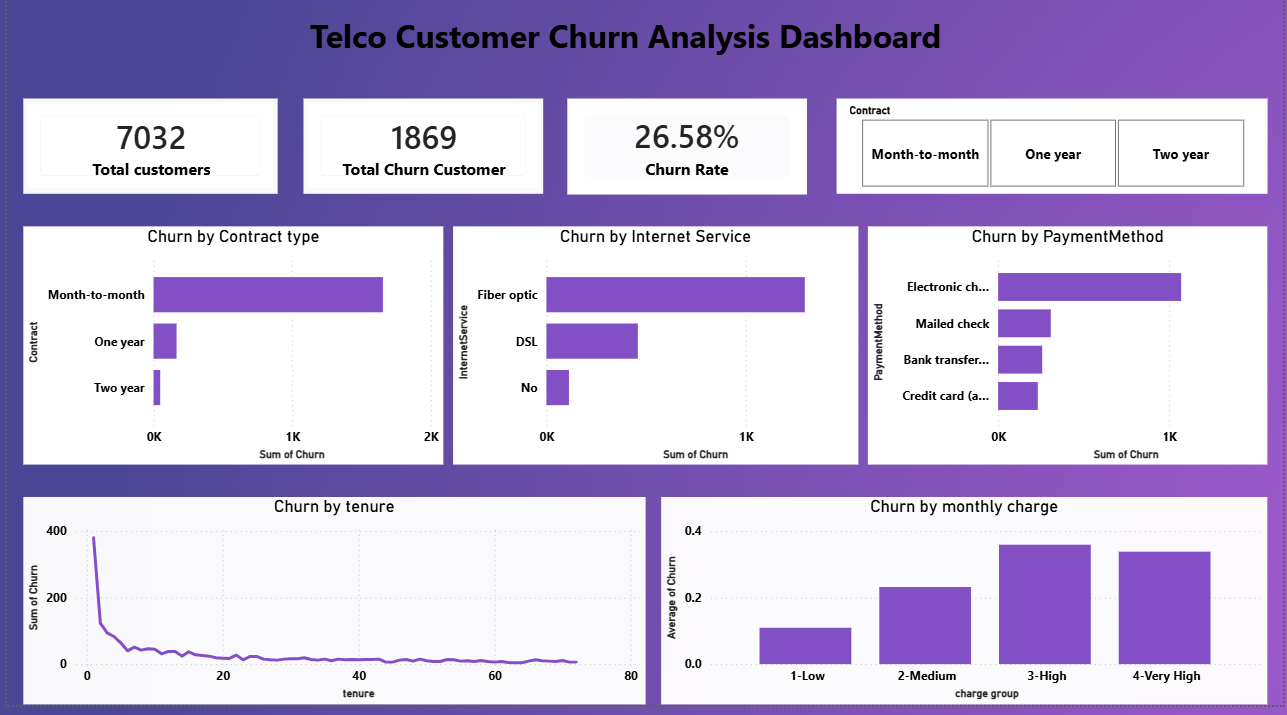

What the dashboard file says about the page in this screenshot:
{"tool":"powerbi","page":{"name":"Page 1","canvas":[1280,720],"ordinal":0},"visuals":[{"type":"cardVisual","fields":{"Data":["CountNonNull(telco_churn_cleaned.customerID)"]},"box":[16.4,111.9,255.1,95.5],"z":0},{"type":"cardVisual","fields":{"Data":["Sum(telco_churn_cleaned.Churn)"]},"box":[297.4,111.9,240.1,95.5],"z":1000},{"type":"cardVisual","fields":{"Data":["telco_churn_cleaned.Churn Rate"]},"box":[562.1,111.3,240.7,96],"z":2000},{"type":"clusteredBarChart","title":"Churn by Contract type","fields":{"Category":["telco_churn_cleaned.Contract"],"Y":["Sum(telco_churn_cleaned.Churn)"]},"box":[16.7,240.7,421.6,239.3],"z":3000},{"type":"clusteredBarChart","title":"Churn by Internet Service","fields":{"Y":["Sum(telco_churn_cleaned.Churn)"],"Category":["telco_churn_cleaned.InternetService"]},"box":[448,240.7,406.3,239.3],"z":4000},{"type":"clusteredBarChart","title":"Churn by PaymentMethod","fields":{"Y":["Sum(telco_churn_cleaned.Churn)"],"Category":["telco_churn_cleaned.PaymentMethod"]},"box":[864,240.7,400.7,239.3],"z":5000},{"type":"lineChart","title":"Churn by tenure","fields":{"Y":["Sum(telco_churn_cleaned.Churn)"],"Category":["telco_churn_cleaned.tenure"]},"box":[16,512,624,208],"z":6000},{"type":"clusteredColumnChart","title":"Churn by monthly charge","fields":{"Y":["Avg(telco_churn_cleaned.Churn)"],"Category":["telco_churn_cleaned.charge group"]},"box":[656,512,608,208],"z":7000},{"type":"textbox","box":[298.8,21.8,679.4,57.3],"z":8000},{"type":"slicer","fields":{"Values":["telco_churn_cleaned.Contract"]},"box":[832.2,111.9,432.5,95.5],"z":9000}]}

Visuals, with their boxes in screenshot pixels (x1, y1, x2, y2), scaled from the page's 1280x720 canvas onto the 1287x715 screenshot:
cardVisual - CountNonNull(telco_churn_cleaned.customerID): [16, 111, 273, 206]
cardVisual - Sum(telco_churn_cleaned.Churn): [299, 111, 540, 206]
cardVisual - telco_churn_cleaned.Churn Rate: [565, 111, 807, 206]
"Churn by Contract type" clusteredBarChart: [17, 239, 441, 477]
"Churn by Internet Service" clusteredBarChart: [450, 239, 859, 477]
"Churn by PaymentMethod" clusteredBarChart: [869, 239, 1272, 477]
"Churn by tenure" lineChart: [16, 508, 644, 714]
"Churn by monthly charge" clusteredColumnChart: [660, 508, 1271, 714]
textbox: [300, 22, 984, 79]
slicer - telco_churn_cleaned.Contract: [837, 111, 1272, 206]
